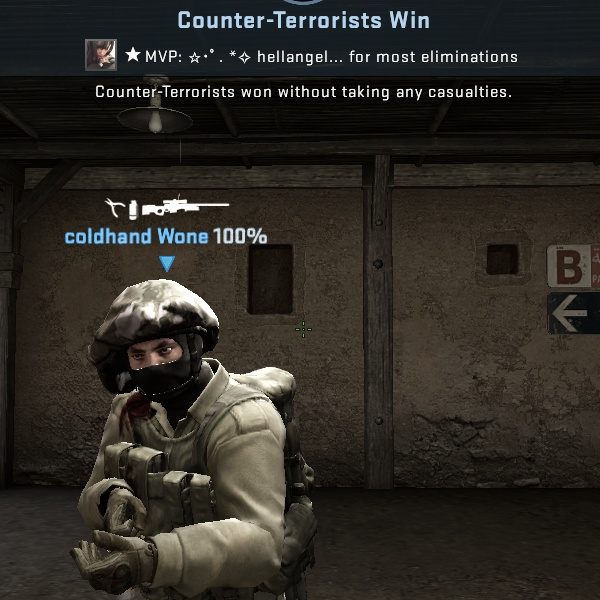ct_body: (19, 274, 346, 600)
ct_head: (88, 267, 236, 419)
